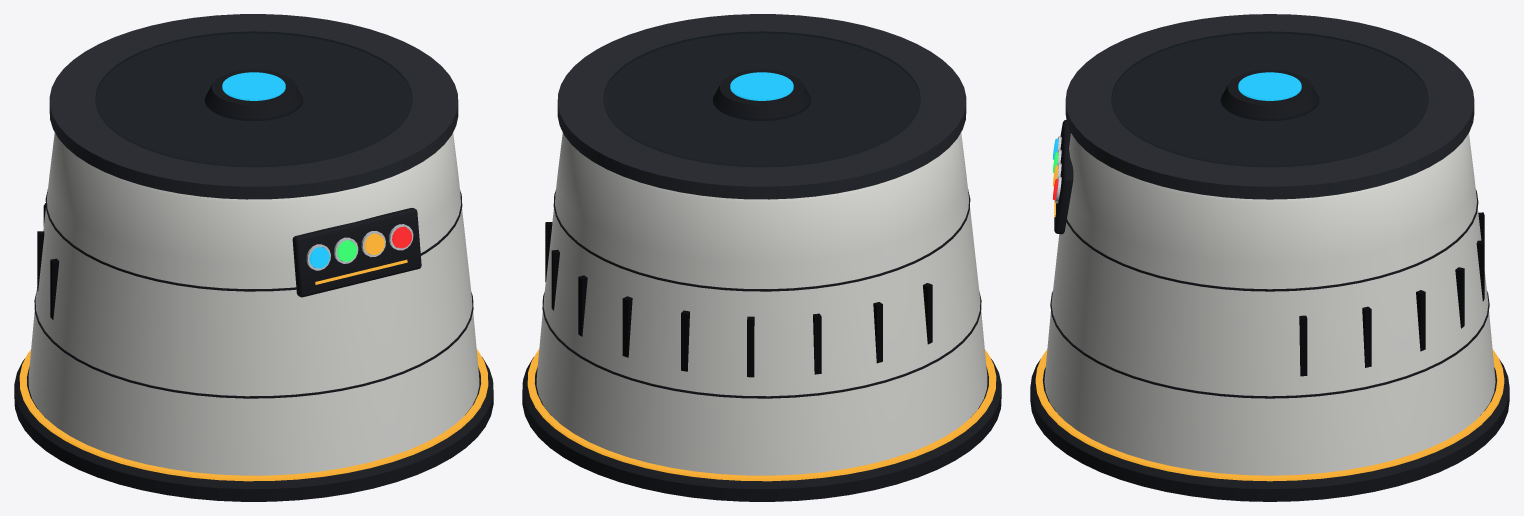
Rendered from holo_terminal.glb.
The picture shows the model from 3 angles, left to right: view 1: azimuth 30°, elevation 25°; view 2: azimuth 150°, elevation 25°; view 3: azimuth 270°, elevation 25°; orthographic projection.
Visible parts, largest first — view 1: terminalBody, panelBody; view 2: terminalBody; view 3: terminalBody, panelBody.
Boxes of the visible parts, box(x1,y1,x2,y2) form: terminalBody: box(14, 14, 493, 501); panelBody: box(292, 208, 421, 297); terminalBody: box(522, 14, 1001, 501); terminalBody: box(1030, 14, 1509, 501); panelBody: box(1052, 120, 1073, 234).
Bounding box in the file's own units: 1.36 × 0.986 × 1.36.
